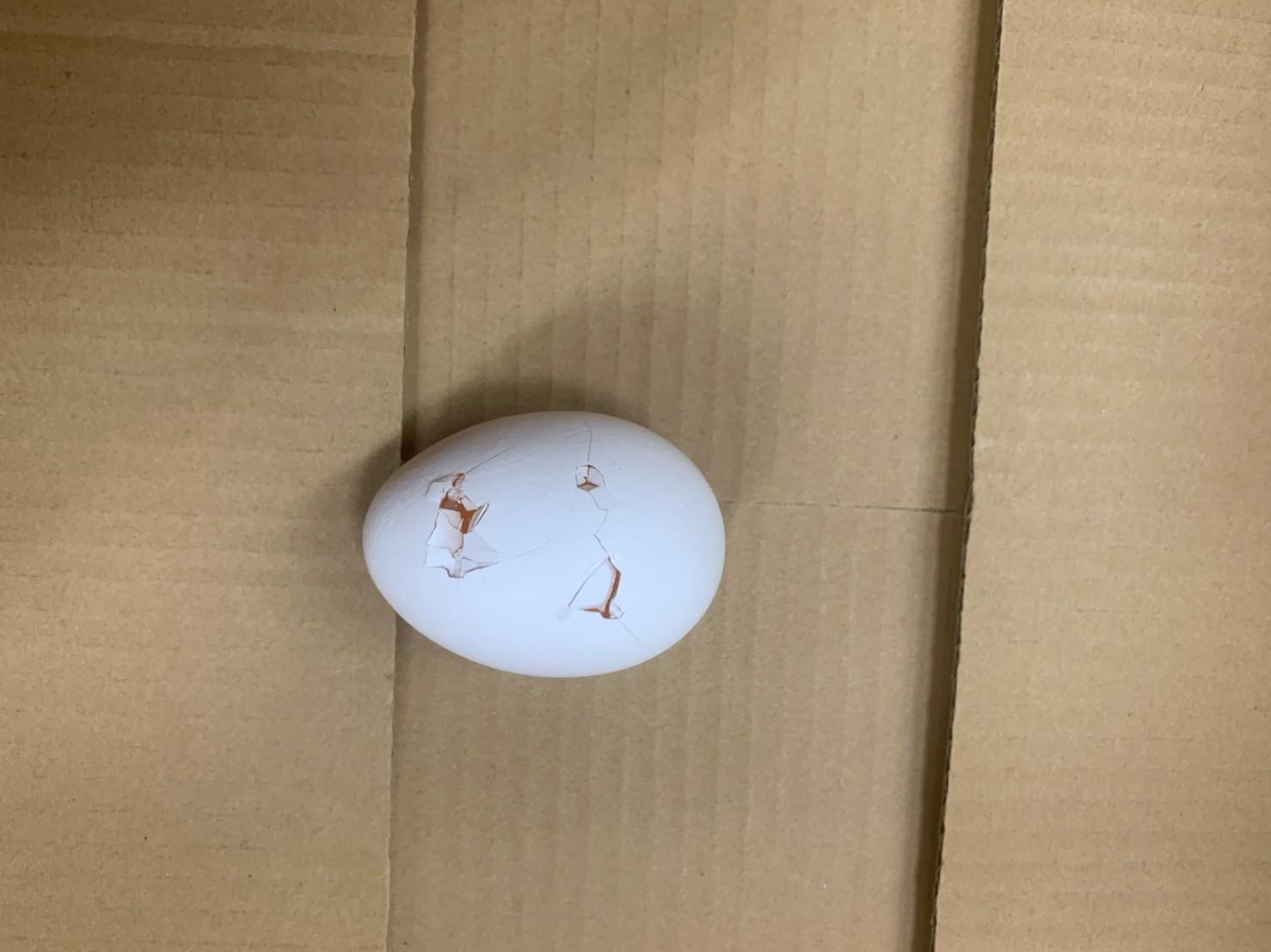egg: (359, 407, 723, 684)
